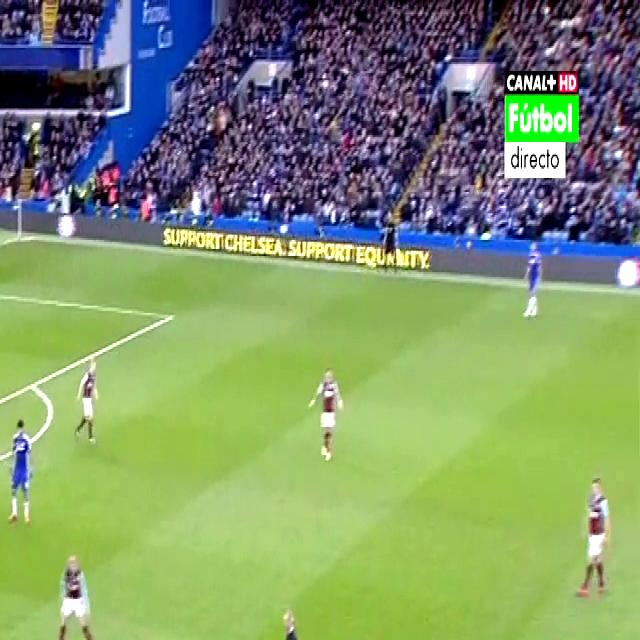referee: (379, 197, 403, 285), (266, 599, 305, 640)
soccer-player: (572, 465, 616, 605), (0, 406, 40, 534), (51, 542, 103, 640), (306, 353, 348, 471), (75, 348, 103, 452), (520, 232, 545, 326)
